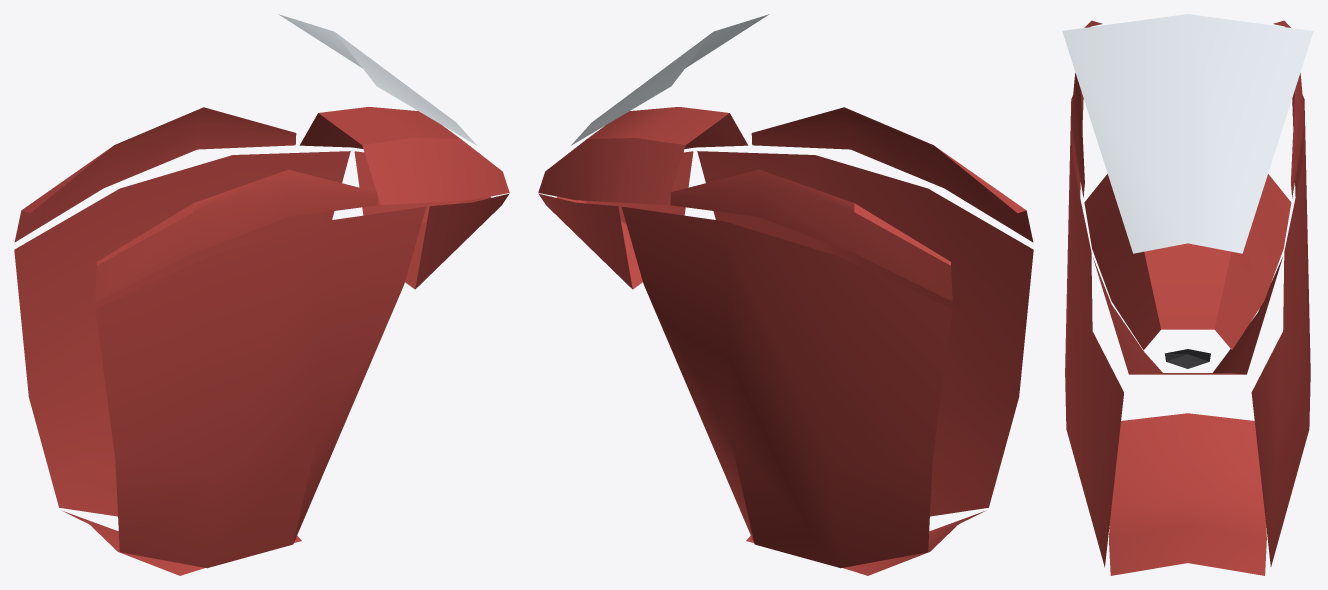
Rendered from race_lod2.glb.
The picture shows the model from 3 angles, left to right: view 1: azimuth 30°, elevation 25°; view 2: azimuth 150°, elevation 25°; view 3: azimuth 270°, elevation 25°; orthographic projection. The views are drawn at different scales.
Visible parts, largest first — view 1: race_lod2; view 2: race_lod2; view 3: race_lod2.
Boxes of the visible parts, box(x1,y1,x2,y2) form: race_lod2: box(14, 14, 509, 575); race_lod2: box(538, 14, 1033, 575); race_lod2: box(1062, 14, 1313, 575).
Size of the model in its own units: 1.02 by 1.05 by 0.3959.
